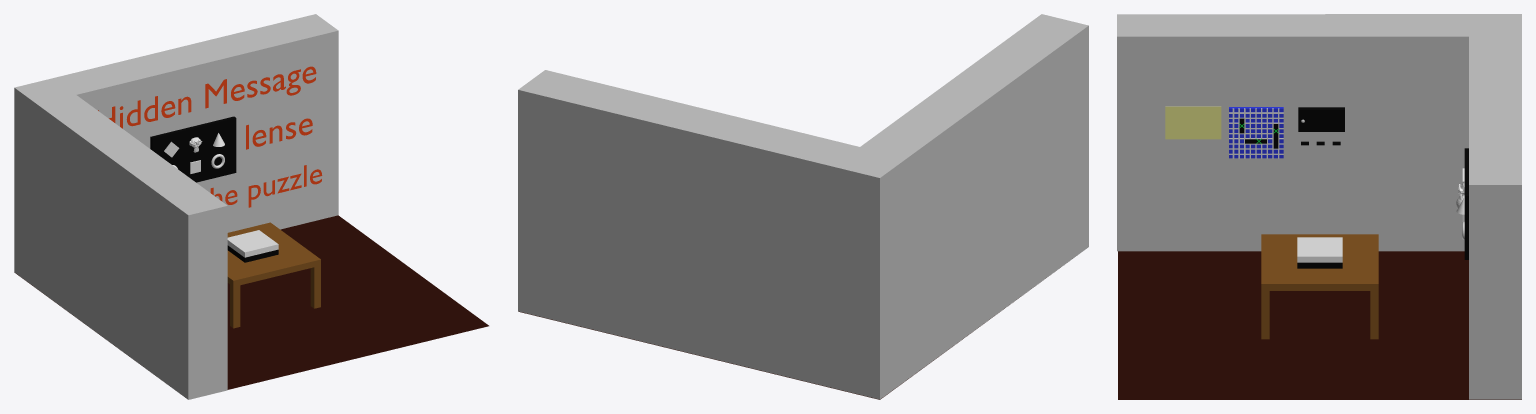
Rendered from Corner 4.fbx.
3 renders of one model, left to right at view 1: azimuth 30°, elevation 25°; view 2: azimuth 150°, elevation 25°; view 3: azimuth 270°, elevation 25°, orthographic. The views are drawn at different scales.
Parts seen in each view (by area): view 1: Cube, Plane, Cube.006, Cube.009, Text, Cube.013, Text.002, Text.001; view 2: Cube; view 3: Cube, Plane, Cube.006, Plane.001, Cube.001, Cube.018, Cube.013, Cube.004, Cube.009.
Boxes of the visible parts, box(x1,y1,x2,y2) form: Cube: box(14, 14, 338, 399); Plane: box(14, 215, 488, 389); Cube.006: box(227, 222, 320, 328); Cube.009: box(150, 116, 236, 182); Text: box(98, 66, 316, 128); Cube.013: box(227, 230, 278, 257); Text.002: box(210, 165, 322, 207); Text.001: box(246, 118, 312, 149); Cube: box(518, 14, 1088, 399); Cube: box(1117, 14, 1521, 399); Plane: box(1118, 251, 1521, 399); Cube.006: box(1261, 234, 1378, 339); Plane.001: box(1165, 106, 1221, 139); Cube.001: box(1229, 107, 1283, 158); Cube.018: box(1229, 108, 1283, 158); Cube.013: box(1297, 237, 1342, 262); Cube.004: box(1298, 107, 1344, 131); Cube.009: box(1464, 148, 1468, 259).
Bounding box in the file's own units: 886 × 519 × 885.
